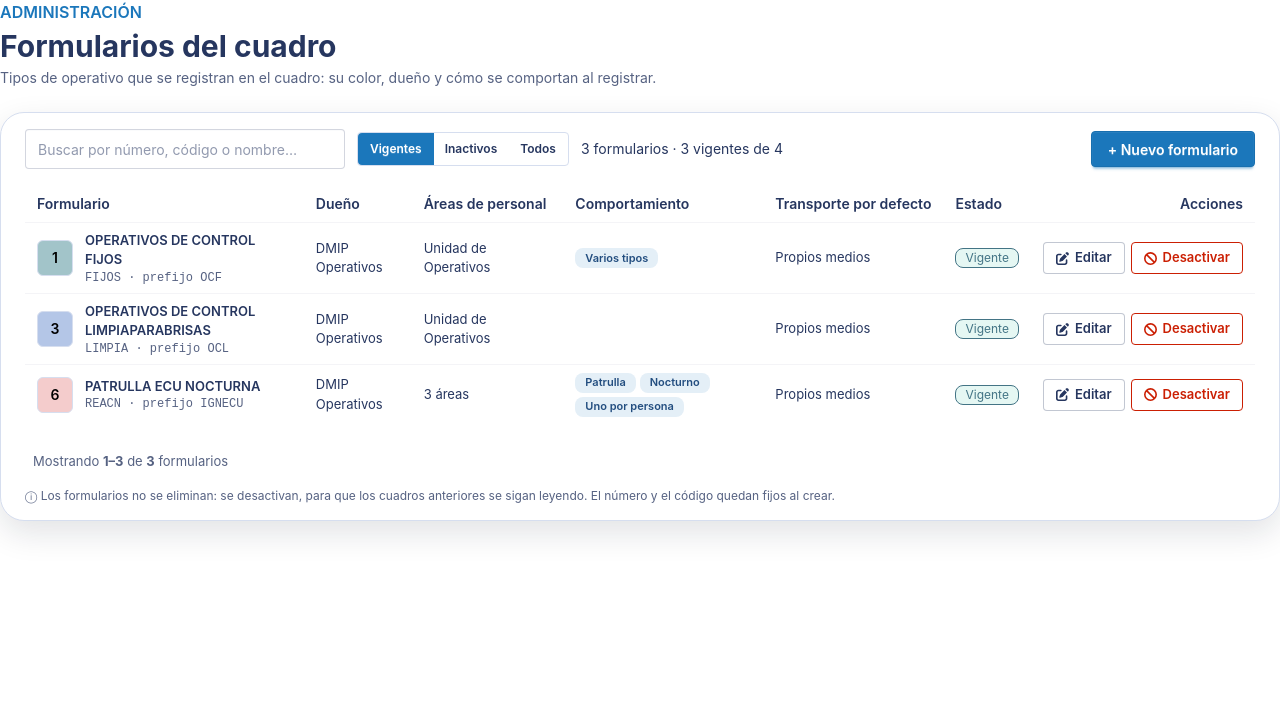
Test case: cajón de edición › «Un operativo por persona» apagado apaga y bloquea la cantidad por persona
The image size is (1280, 720).
Expected: the table named "Formularios del cuadro" is shown, [25,185,1255,424]
Click the button with aria-label "Editar 6. PATRULLA ECU NOCTURNA". click: (1084, 395)
box: [1043,379,1125,411]
(page scrolled)
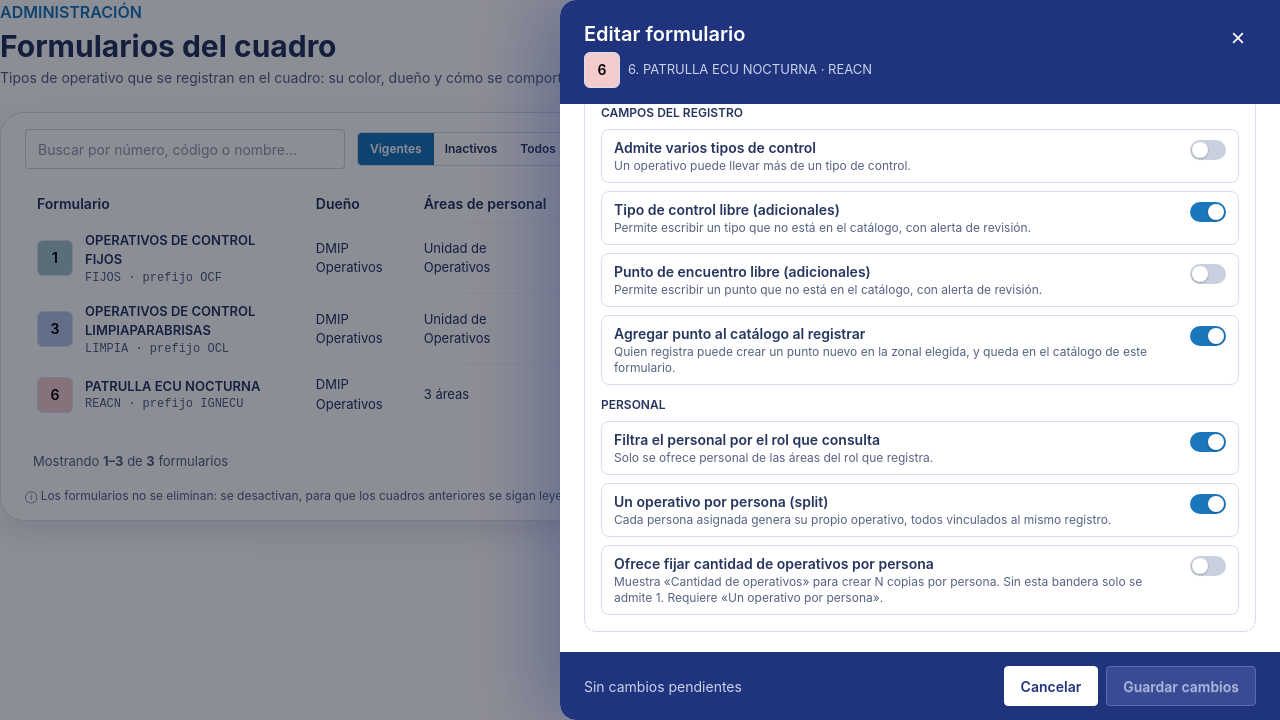
Expected: the switch labelled "Ofrece fijar cantidad" is enabled, [1190,556,1226,576]
Click the switch labelled "Un operativo por persona". click: (1208, 504)
box: [1190,494,1226,514]
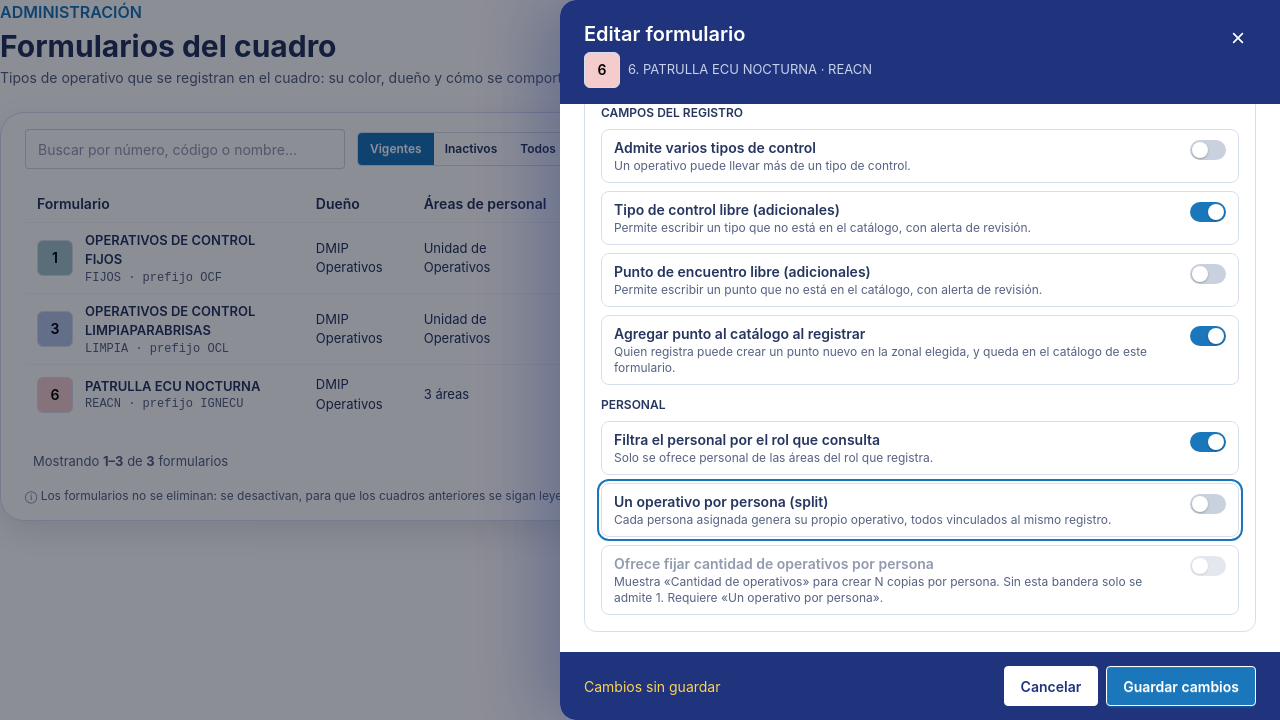
Expected: the switch labelled "Ofrece fijar cantidad" is not checked, [1190,556,1226,576]
Expected: the switch labelled "Ofrece fijar cantidad" is disabled, [1190,556,1226,576]
